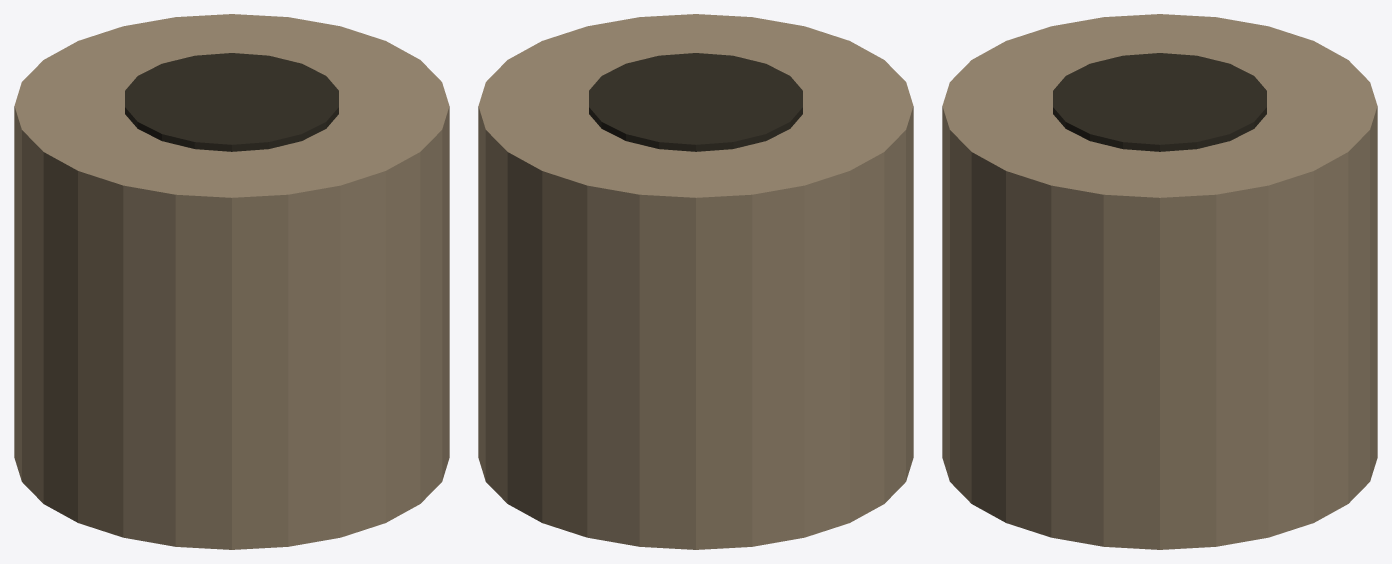
File: bandage_roll.obj
The picture shows the model from 3 angles, left to right: view 1: azimuth 30°, elevation 25°; view 2: azimuth 150°, elevation 25°; view 3: azimuth 270°, elevation 25°; orthographic projection.
Parts seen in each view (by area): view 1: bandage_roll; view 2: bandage_roll; view 3: bandage_roll.
Boxes of the visible parts, <box> form: bandage_roll: <box>14,14,449,549</box>; bandage_roll: <box>478,14,913,549</box>; bandage_roll: <box>942,14,1377,549</box>.
Bounding box in the file's own units: 0.28 × 0.26 × 0.28.
